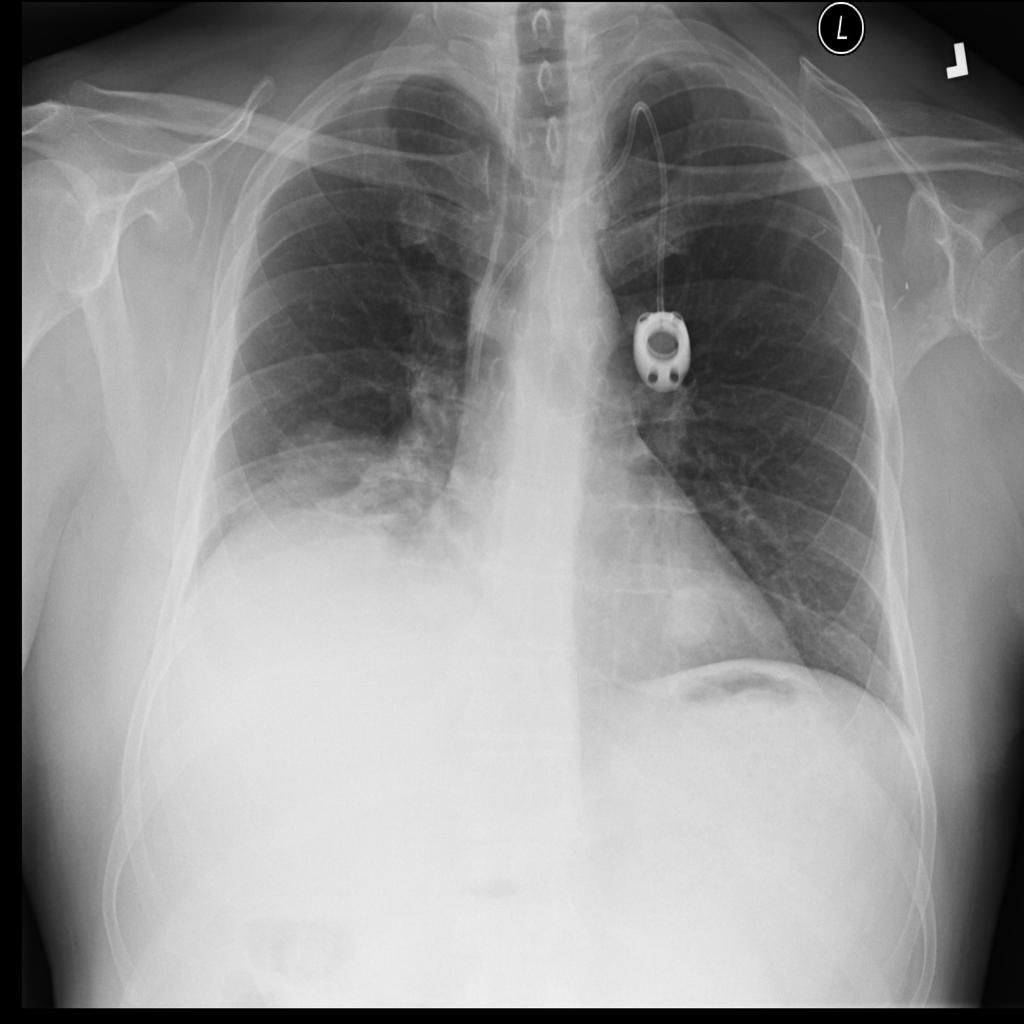nodule: (652, 576, 732, 658)
